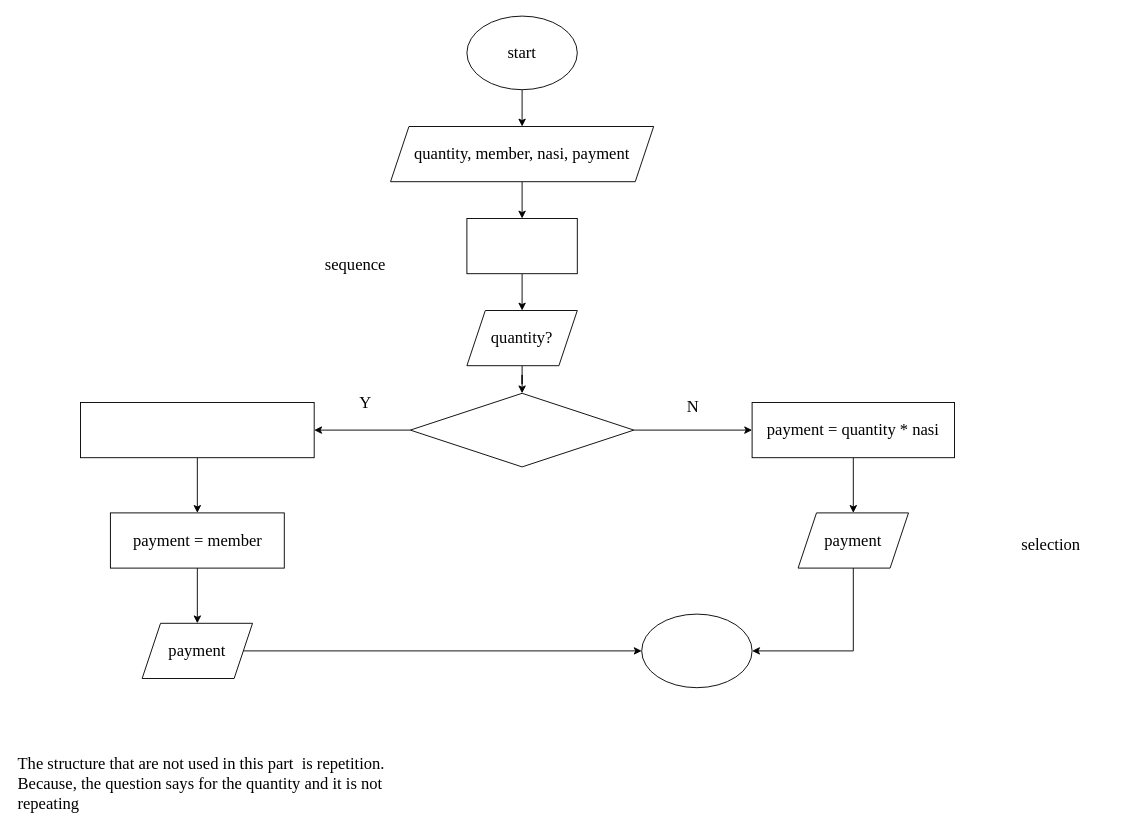
This 1126x830 diagram has some shape labels left out. Each missing label, with the centre of its shape:
"end" goes at point 696,650.
"member = quantity * nasi * 10%" goes at point 197,430.
"member? Y/N" goes at point 521,429.
"nasi = 4.50" goes at point 521,246.
